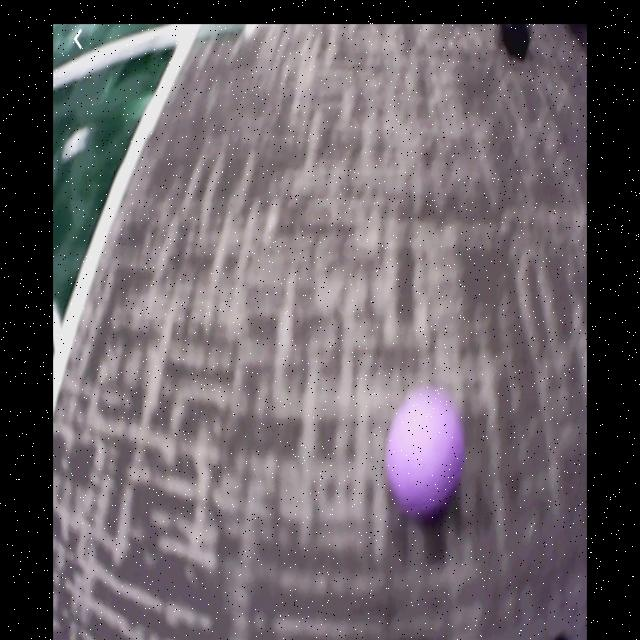ball: (389, 399, 462, 512)
